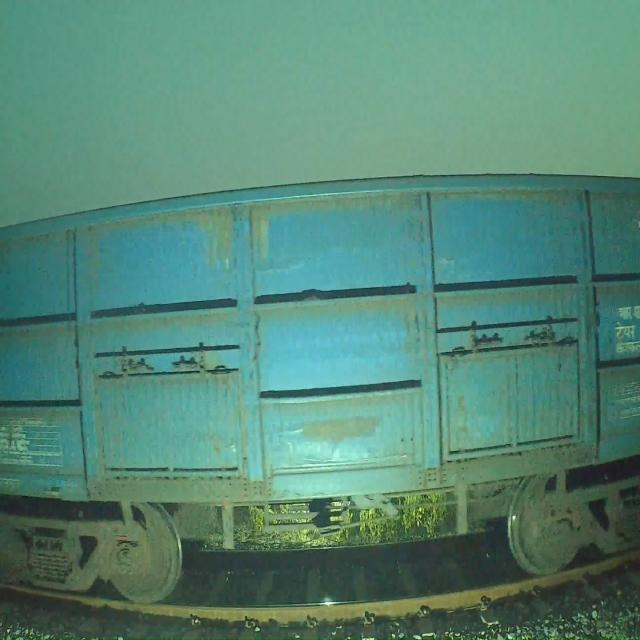WAgon-uic: (0, 169, 637, 608)
